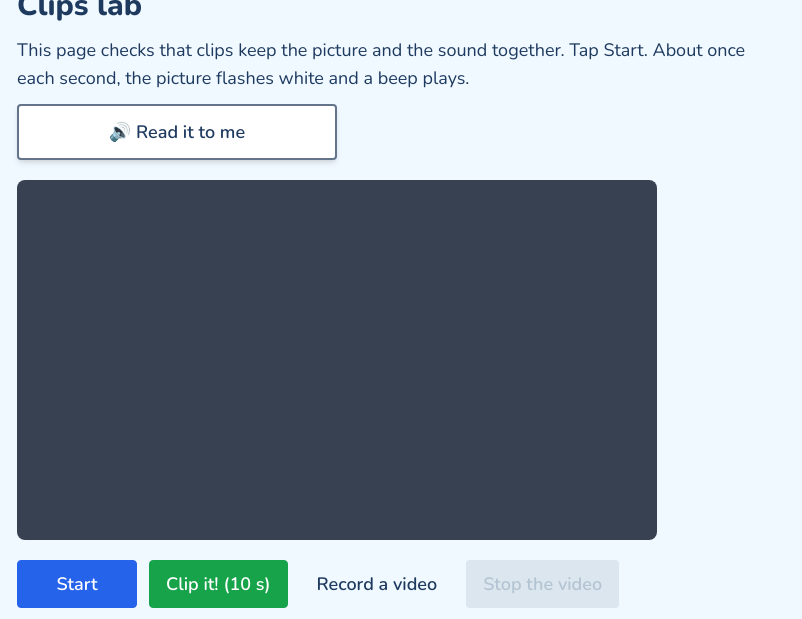
it: ClipsLab › shows why a recording could not start
Click the button with test id "lab-record-start" at (377, 584), box [300,560,454,608]
(page scrolled)
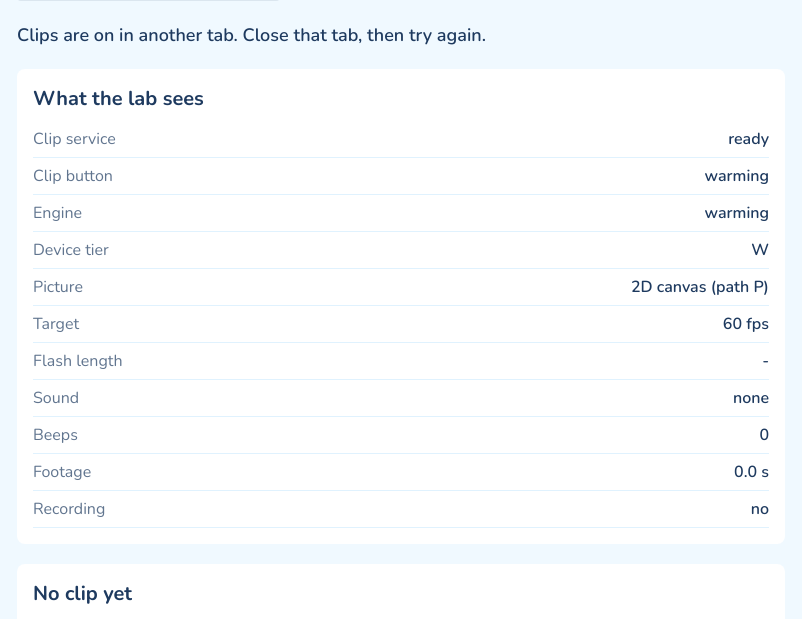
Expected: the text with test id "lab-message" reads "Clips are on in another tab. Close that tab, then try again.", [17,23,486,47]
